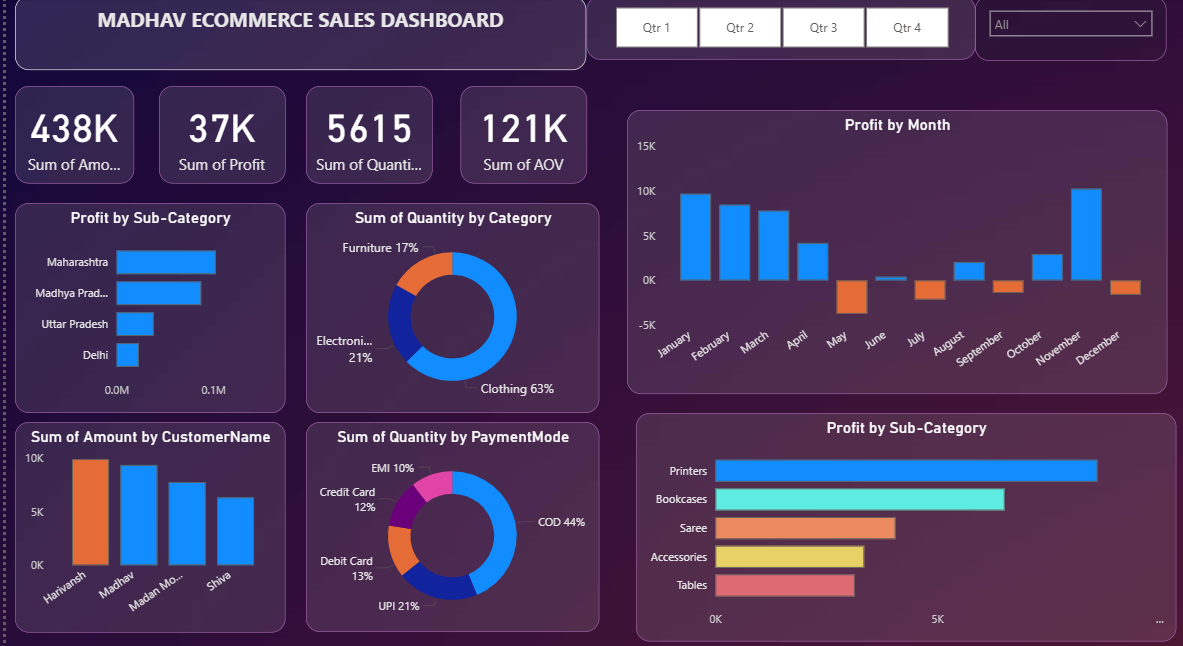

The dashboard page shown, as its layout file describes it:
{"tool":"powerbi","page":{"name":"Page 1","canvas":[1280,720],"ordinal":0},"visuals":[{"type":"textbox","box":[10,0,616.7,80],"z":0},{"type":"columnChart","title":"Profit by Month","fields":{"Y":["Sum(Details.Profit)"],"Category":["Orders.Order Date.Variation.Date Hierarchy.Month"]},"box":[670,123.3,583.3,306.7],"z":1000},{"type":"barChart","title":"Profit by Sub-Category","fields":{"Category":["Details.Sub-Category"],"Y":["Sum(Details.Profit)"]},"box":[680,450,583.3,246.7],"z":2000},{"type":"donutChart","fields":{"Category":["Details.Category"],"Y":["Sum(Details.Quantity)"]},"box":[323.3,223.3,316.7,226.7],"z":3000},{"type":"donutChart","fields":{"Y":["Sum(Details.Quantity)"],"Category":["Details.PaymentMode"]},"box":[323.3,460,316.7,226.7],"z":4000},{"type":"card","fields":{"Values":["Sum(Details.Amount)"]},"box":[10,96.7,128.3,105],"z":5000},{"type":"card","fields":{"Values":["Sum(Details.Profit)"]},"box":[165,96.7,136.7,105],"z":6000},{"type":"card","fields":{"Values":["Sum(Details.Quantity)"]},"box":[323.3,96.7,136.7,105],"z":7000},{"type":"card","fields":{"Values":["Sum(Details.AOV)"]},"box":[490,96.7,136.7,105],"z":8000},{"type":"barChart","title":"Profit by Sub-Category","fields":{"Y":["Sum(Details.Amount)"],"Category":["Orders.State"]},"box":[10,223.3,291.7,226.7],"z":9000},{"type":"columnChart","fields":{"Category":["Orders.CustomerName"],"Y":["Sum(Details.Amount)"]},"box":[10,460,292,227],"z":10000},{"type":"slicer","fields":{"Values":["Orders.Order Date.Variation.Date Hierarchy.Quarter"]},"box":[626.7,0,420,68.3],"z":11000},{"type":"slicer","fields":{"Values":["Orders.State"]},"box":[1046.7,0,206.7,70],"z":12000}]}

Visuals, with their boxes on the page's 1280x720 design canvas (x1, y1, x2, y2). These are canvas units, not pixel positions in the 1183x646 screenshot, which may show the page scaled, cropped or inside an application window:
textbox: (10,0,627,80)
"Profit by Month" columnChart: (670,123,1253,430)
"Profit by Sub-Category" barChart: (680,450,1263,697)
donutChart - Details.Category x Sum(Details.Quantity): (323,223,640,450)
donutChart - Sum(Details.Quantity) x Details.PaymentMode: (323,460,640,687)
card - Sum(Details.Amount): (10,97,138,202)
card - Sum(Details.Profit): (165,97,302,202)
card - Sum(Details.Quantity): (323,97,460,202)
card - Sum(Details.AOV): (490,97,627,202)
"Profit by Sub-Category" barChart: (10,223,302,450)
columnChart - Orders.CustomerName x Sum(Details.Amount): (10,460,302,687)
slicer - Orders.Order Date.Variation.Date Hierarchy.Quarter: (627,0,1047,68)
slicer - Orders.State: (1047,0,1253,70)
